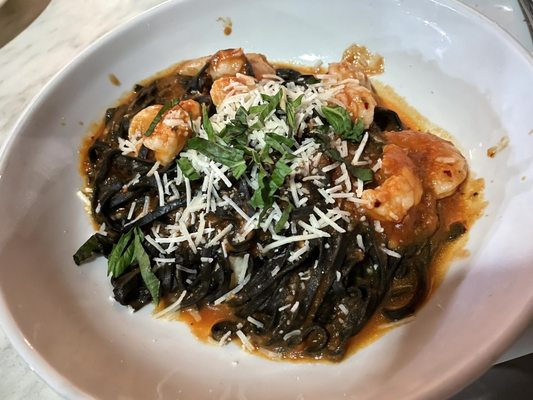sushi: (0, 1, 516, 400)
